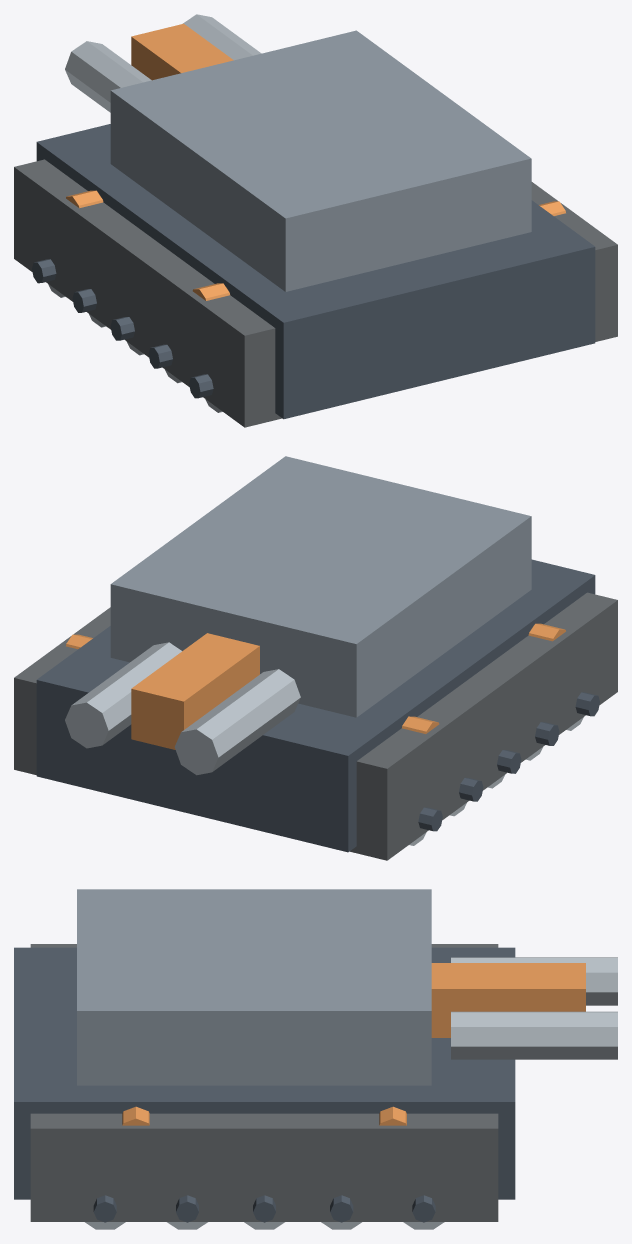
The model's file is hellion.glb.
The picture shows the model from 3 angles, top to bottom: view 1: azimuth 30°, elevation 25°; view 2: azimuth 150°, elevation 25°; view 3: azimuth 270°, elevation 25°; orthographic projection.
Visible parts, largest first — view 1: detail_001, detail_000, detail_002, detail_028, detail_015, detail_029, detail_030; view 2: detail_001, detail_000, detail_002, detail_028, detail_029, detail_030, detail_015; view 3: detail_001, detail_015, detail_000, detail_030, detail_028, detail_029, detail_025, detail_017, detail_019, detail_023, detail_021, detail_027 (+1 smaller).
Part boxes in pixels (x1,y1,x2,y2): detail_001: (110, 30, 531, 291); detail_000: (36, 124, 595, 419); detail_002: (14, 159, 282, 427); detail_028: (131, 23, 233, 80); detail_015: (531, 182, 617, 341); detail_029: (65, 41, 151, 112); detail_030: (182, 14, 261, 60); detail_001: (110, 456, 531, 717); detail_000: (36, 559, 595, 852); detail_002: (350, 592, 617, 860); detail_028: (131, 633, 259, 749); detail_029: (174, 669, 300, 775); detail_030: (65, 642, 181, 748); detail_015: (14, 607, 110, 774); detail_001: (77, 889, 431, 1085); detail_015: (30, 1113, 498, 1221); detail_000: (14, 947, 515, 1199); detail_030: (451, 1011, 617, 1059); detail_028: (431, 963, 585, 1037); detail_029: (451, 957, 617, 1005); detail_025: (93, 1195, 116, 1222); detail_017: (412, 1195, 435, 1222); detail_019: (330, 1195, 353, 1222); detail_023: (176, 1195, 198, 1222); detail_021: (253, 1195, 275, 1222); detail_027: (122, 1106, 149, 1125).
Size of the model in its own units: 1.82 by 0.8141 by 2.35.
